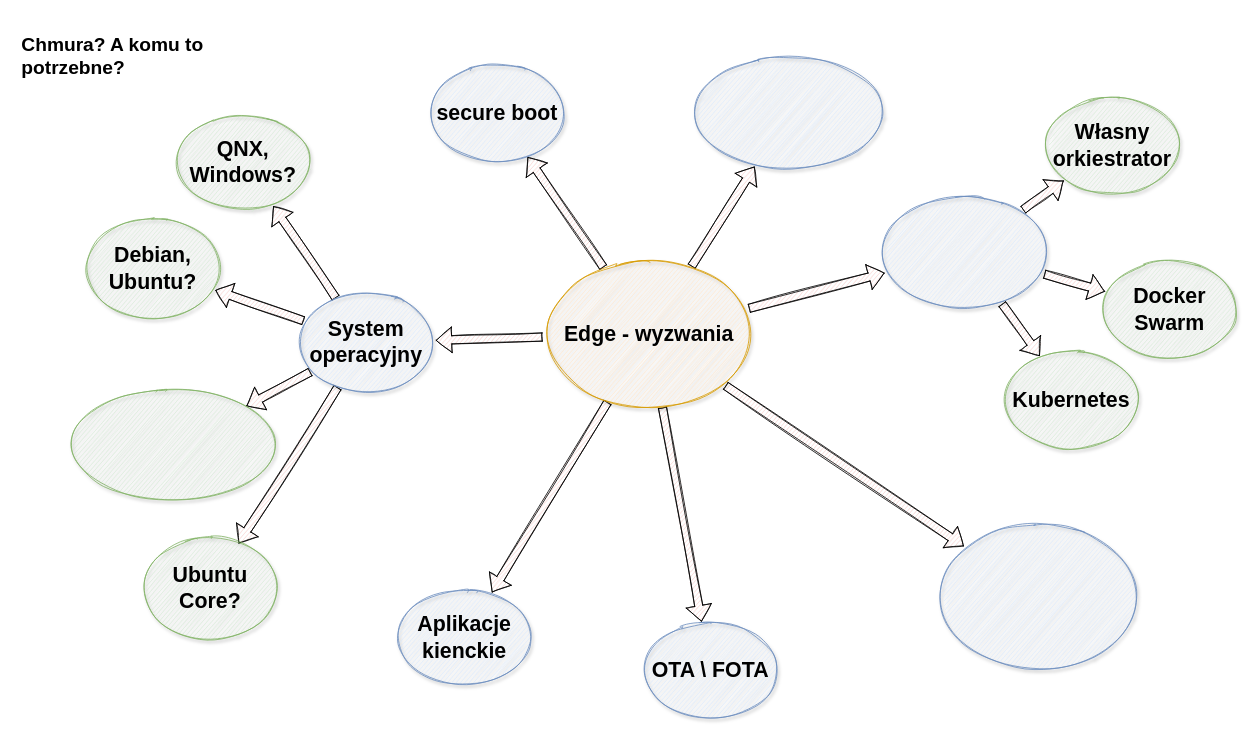
This 1259x740 diagram has some shape labels left out. Each missing label, with the centre of its shape:
autoryzacja \ autentykacja: pixel 789 113
Jak zarządzać flotą urządzeń?: pixel 965 253
monitorowanie \ health check: pixel 1039 597
Yocto/Bitbake?: pixel 174 445
